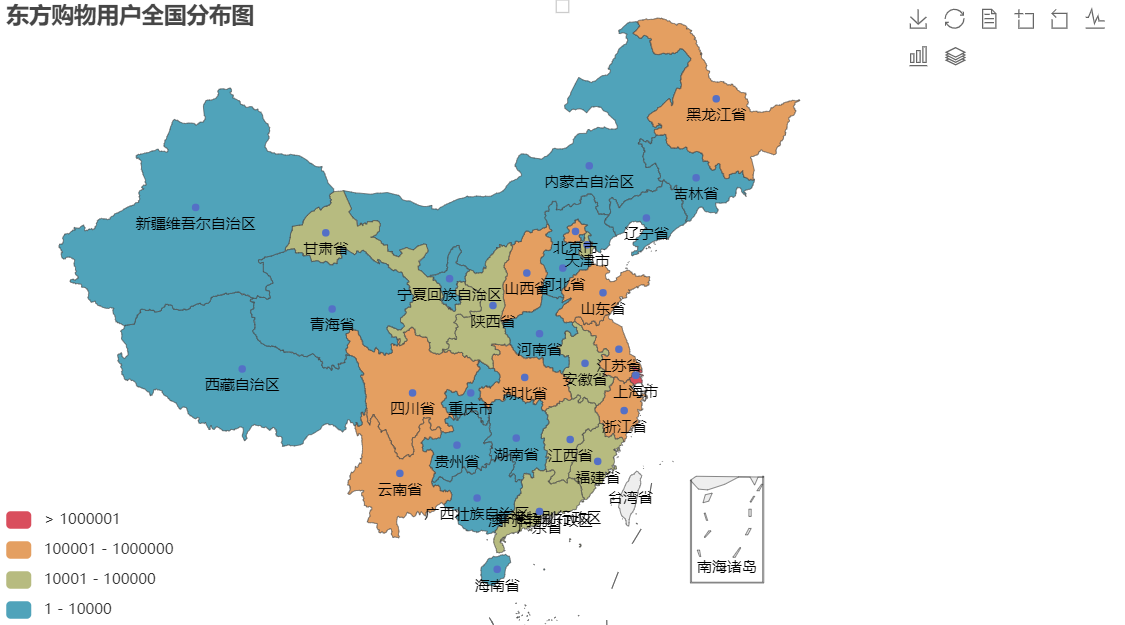

The dashboard page shown, as its layout file describes it:
{"tool":"powerbi","page":{"name":"第 1 页","canvas":[1280,720],"ordinal":0},"visuals":[{"type":"colorMapEB4BA673A8872296B0669A67E5D2ACC5","title":"XX公司用户全国分布图","fields":{"position":["SheetJS.省"],"color":["Sum(SheetJS.人数)"]},"box":[0,0,1280.4,719.6],"z":0}]}

Visuals, with their boxes in screenshot pixels (x1, y1, x2, y2), scaled from the page's 1280x720 canvas onto the 1125x625 screenshot:
"XX公司用户全国分布图" colorMapEB4BA673A8872296B0669A67E5D2ACC5: (left=0, top=0, right=1124, bottom=624)
